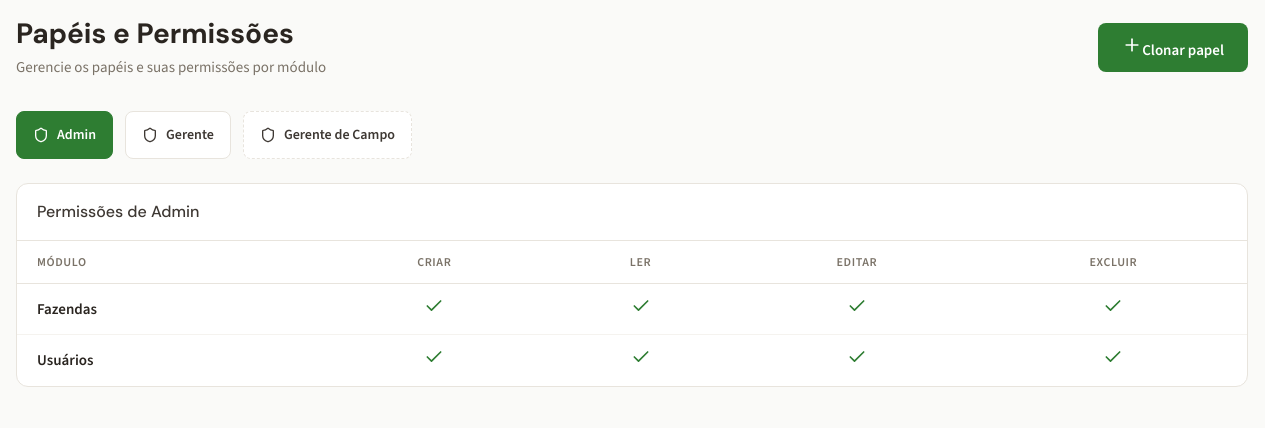
it: RolesPage › shows edit and delete buttons only for custom roles
Expected: the heading "Papéis e Permissões" is shown, [16,16,326,52]
Select custom role
Click the button "Gerente de Campo": (327, 135) [243,111,412,159]
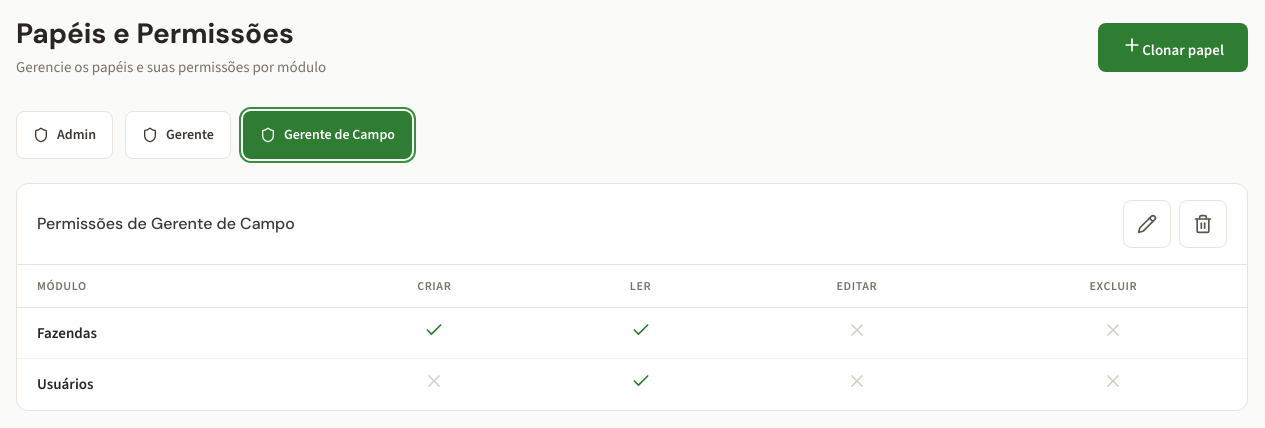
Now the button named "Editar papel" is shown, box [1123,200,1171,248]
Now the button named "Excluir papel" is shown, box [1179,200,1227,248]
